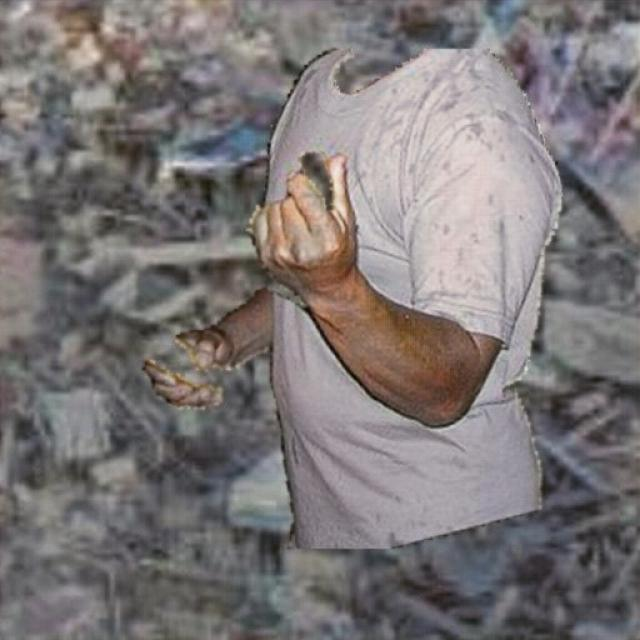Person in Rubble: (143, 49, 562, 548)
